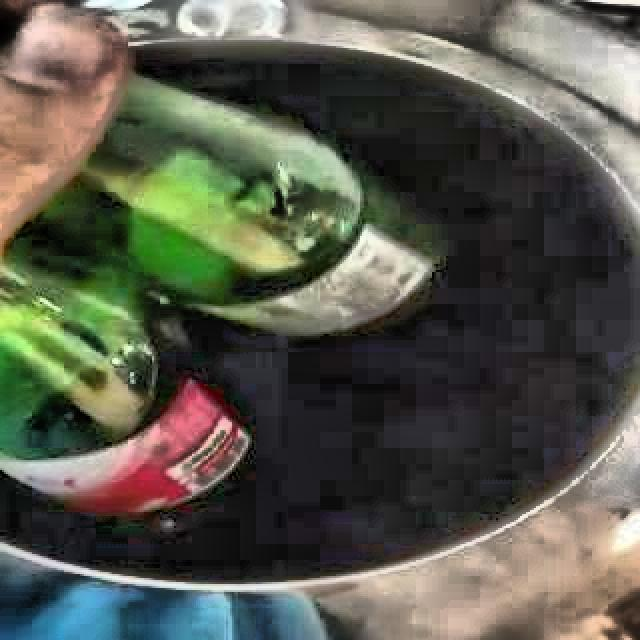glass: (0, 76, 432, 511)
